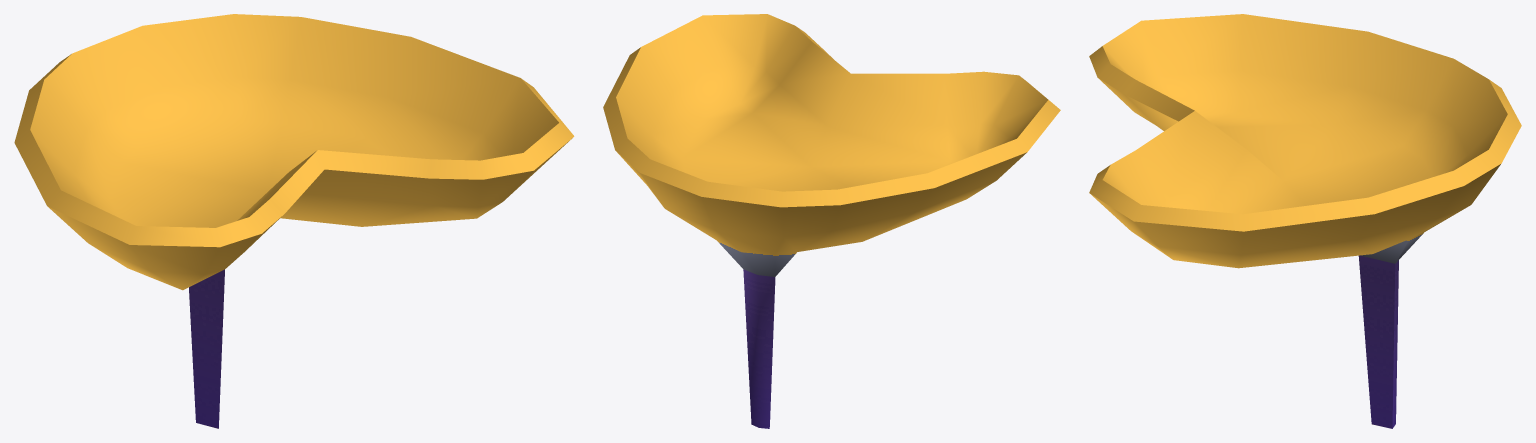
Rendered from D_CoralReef.167.glb.
The picture shows the model from 3 angles, left to right: view 1: azimuth 30°, elevation 25°; view 2: azimuth 150°, elevation 25°; view 3: azimuth 270°, elevation 25°; orthographic projection. The views are drawn at different scales.
Visible parts, largest first — view 1: D_CoralReef.167; view 2: D_CoralReef.167; view 3: D_CoralReef.167.
Part boxes in pixels (x1,y1,x2,y2): D_CoralReef.167: (14, 14, 574, 428); D_CoralReef.167: (603, 14, 1060, 428); D_CoralReef.167: (1089, 14, 1521, 428).
Bounding box in the file's own units: 0.5007 × 0.3454 × 0.4319.
Materials: 1 (1 with a texture image).
